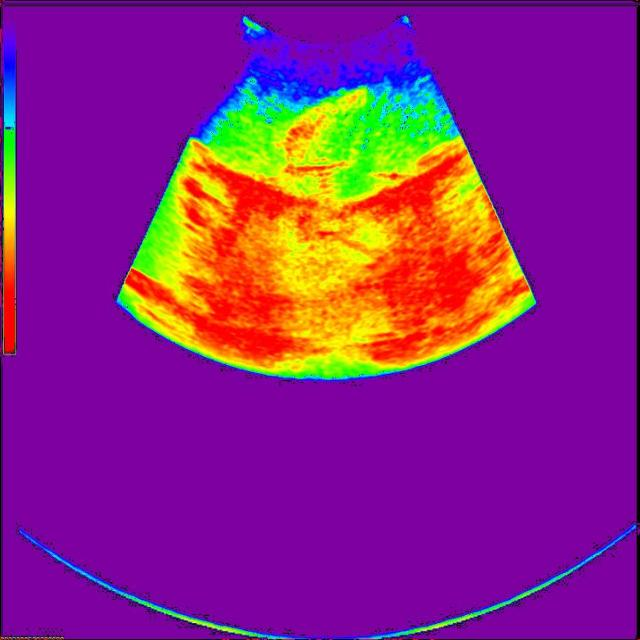chicken muscle post: (283, 89, 375, 174)
